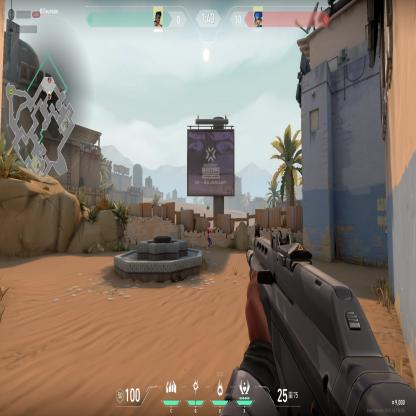enemy: (206, 220, 213, 254)
